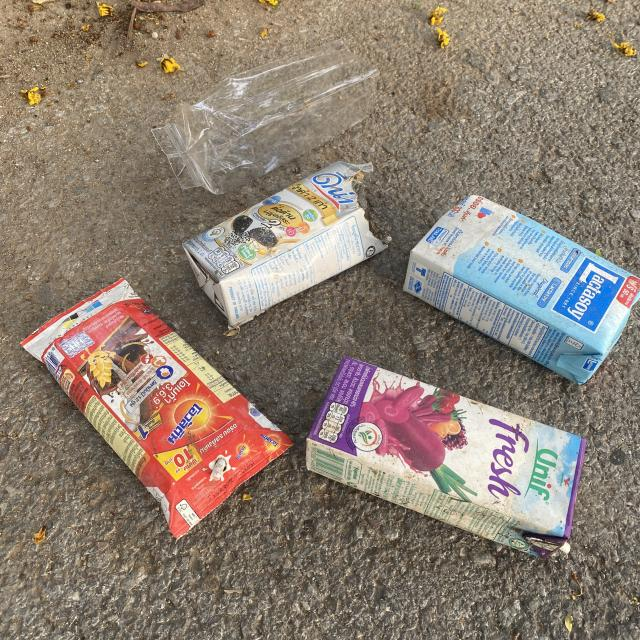Single-layer Plastic: (152, 40, 379, 194)
